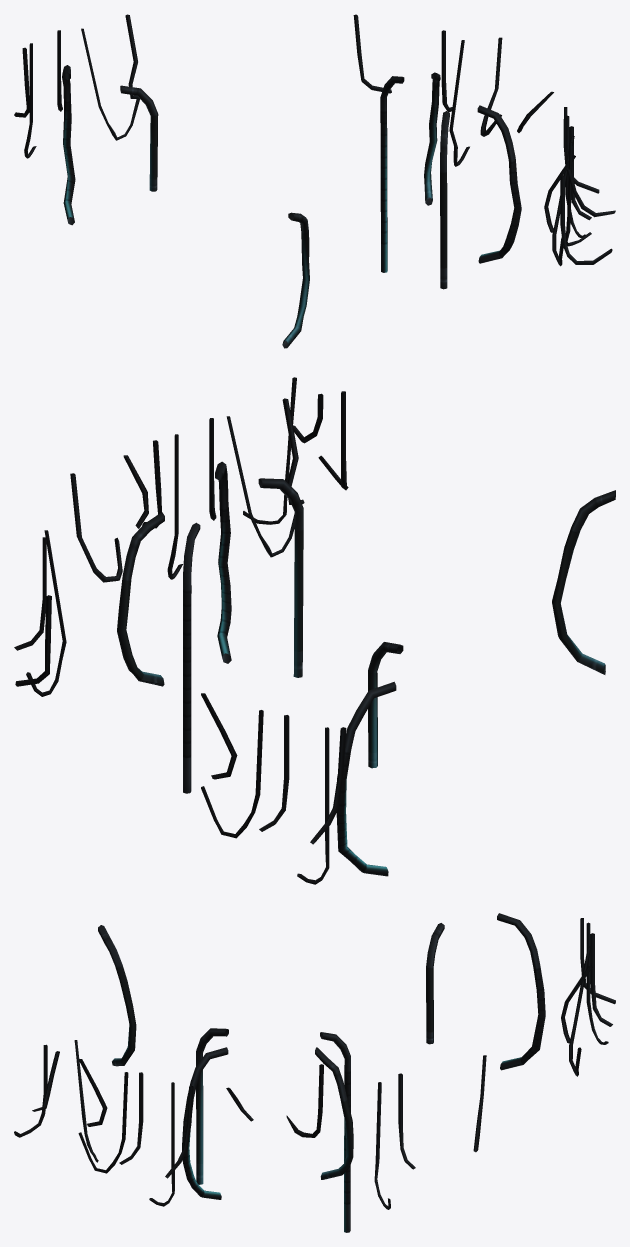
The model's file is ts_cjdnx001.FBX.
The picture shows the model from 3 angles, top to bottom: view 1: azimuth 30°, elevation 25°; view 2: azimuth 150°, elevation 25°; view 3: azimuth 270°, elevation 25°; orthographic projection. The views are drawn at different scales.
Visible parts, largest first — view 1: ts_cjdnx001; view 2: ts_cjdnx001; view 3: ts_cjdnx001.
Part boxes in pixels (left/top/right/bottom): ts_cjdnx001: left=14, top=14, right=615, bottom=348; ts_cjdnx001: left=14, top=377, right=615, bottom=884; ts_cjdnx001: left=14, top=913, right=615, bottom=1232.
Size of the model in its own units: 4.92 by 2.77 by 6.98.
